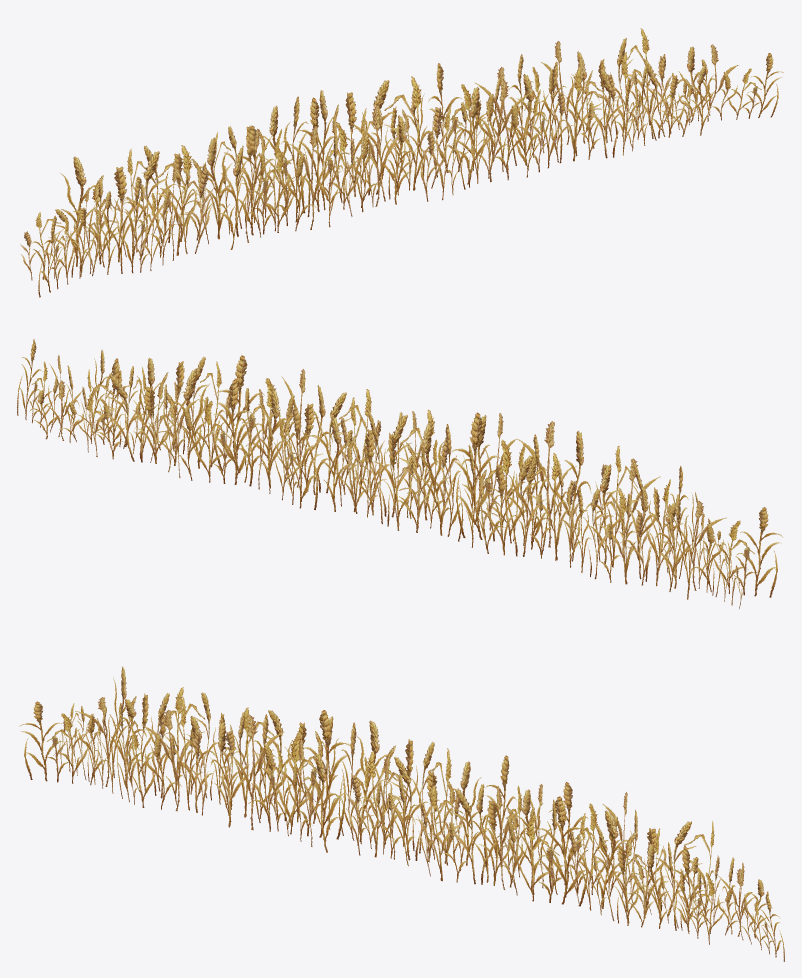
Rendered from cj_barley_02.glb.
3 renders of one model, top to bottom at view 1: azimuth 30°, elevation 25°; view 2: azimuth 150°, elevation 25°; view 3: azimuth 330°, elevation 25°, orthographic. The views are drawn at different scales.
Visible parts, largest first — view 1: CJ_barley_02; view 2: CJ_barley_02; view 3: CJ_barley_02.
Part boxes in pixels (bbox=[...]): CJ_barley_02: bbox=[20, 28, 783, 297]; CJ_barley_02: bbox=[17, 339, 783, 608]; CJ_barley_02: bbox=[19, 666, 784, 961].
Bounding box in the file's own units: 11.24 × 1.93 × 1.14.
Materials: 1 (1 with a texture image).
